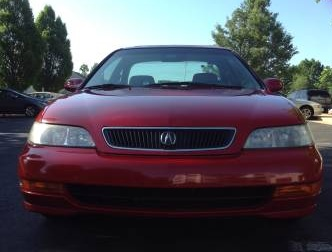acura: (15, 44, 332, 230)
